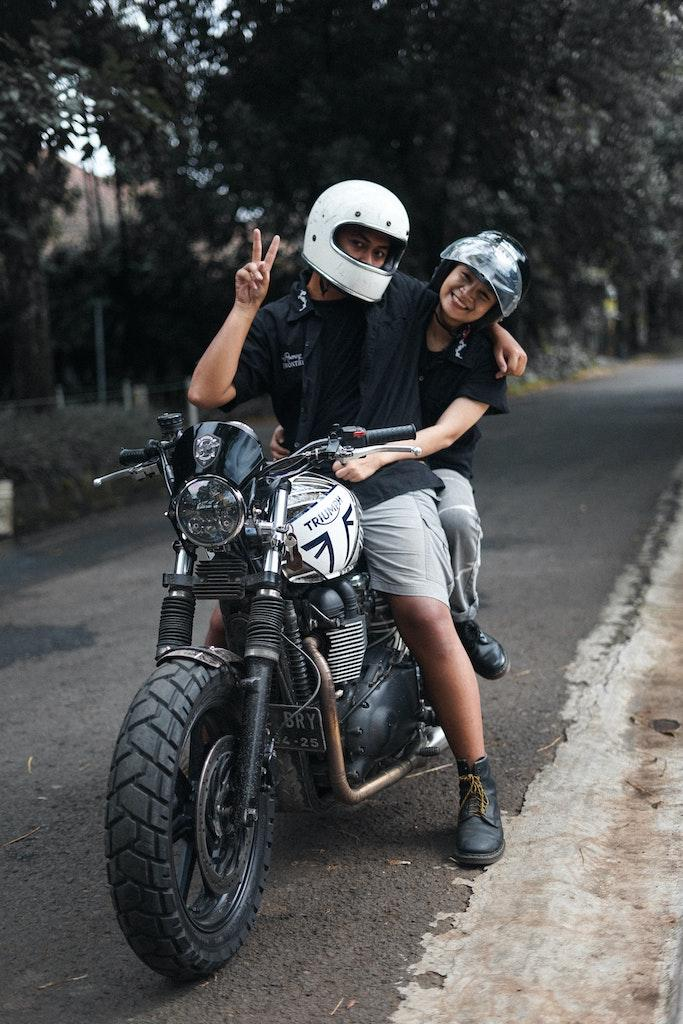helmet: (300, 178, 411, 305), (426, 228, 532, 342)
